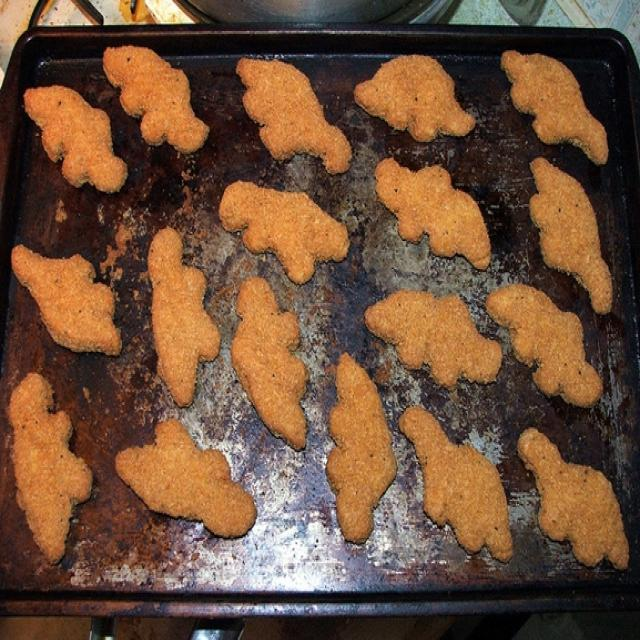鸡肉料理 含炸鸡: (3, 11, 628, 602)
